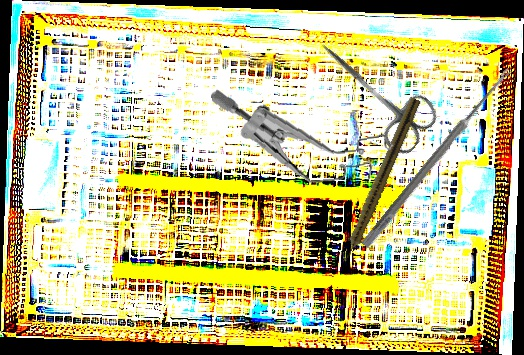Handpiece: (337, 95, 422, 265)
Iris Scissors: (300, 23, 445, 160)
Speculum: (210, 72, 398, 197)
Surgical Spoon: (360, 65, 514, 250)
